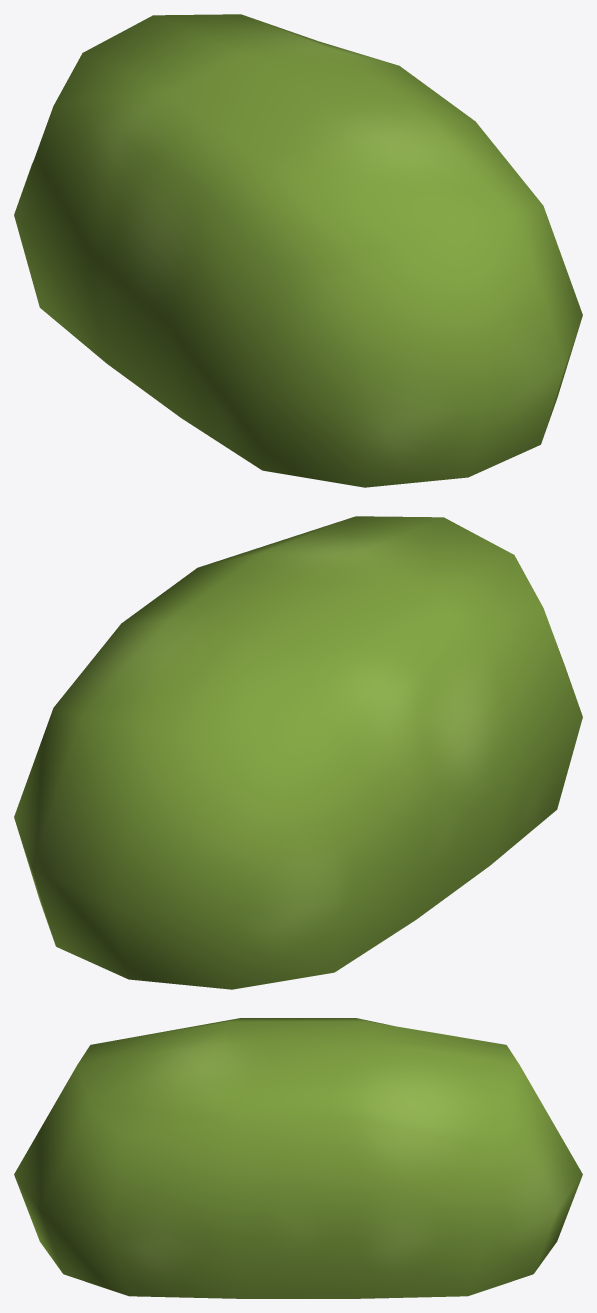
Rendered from Arbusto_1.fbx.
3 renders of one model, top to bottom at view 1: azimuth 30°, elevation 25°; view 2: azimuth 150°, elevation 25°; view 3: azimuth 270°, elevation 25°, orthographic. The views are drawn at different scales.
Visible parts, largest first — view 1: Arbusto_1; view 2: Arbusto_1; view 3: Arbusto_1.
Boxes of the visible parts, x1=… form: Arbusto_1: x1=14, y1=14, x2=582, y2=487; Arbusto_1: x1=14, y1=516, x2=582, y2=989; Arbusto_1: x1=14, y1=1018, x2=582, y2=1298.
Bounding box in the file's own units: 37.66 × 27.51 × 71.7.
